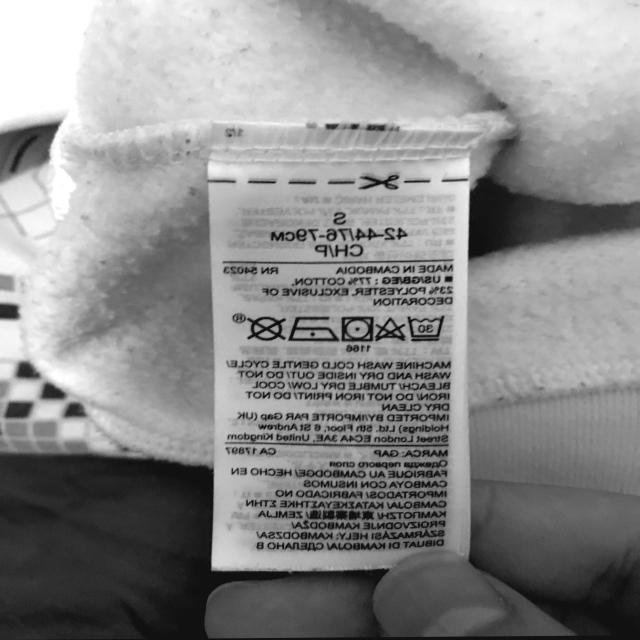30C: (406, 315, 448, 344)
DN_bleach: (377, 315, 408, 341)
DN_dry_clean: (246, 313, 288, 345)
iron_low: (288, 313, 340, 346)
tumble_dry_low: (338, 312, 377, 344)
